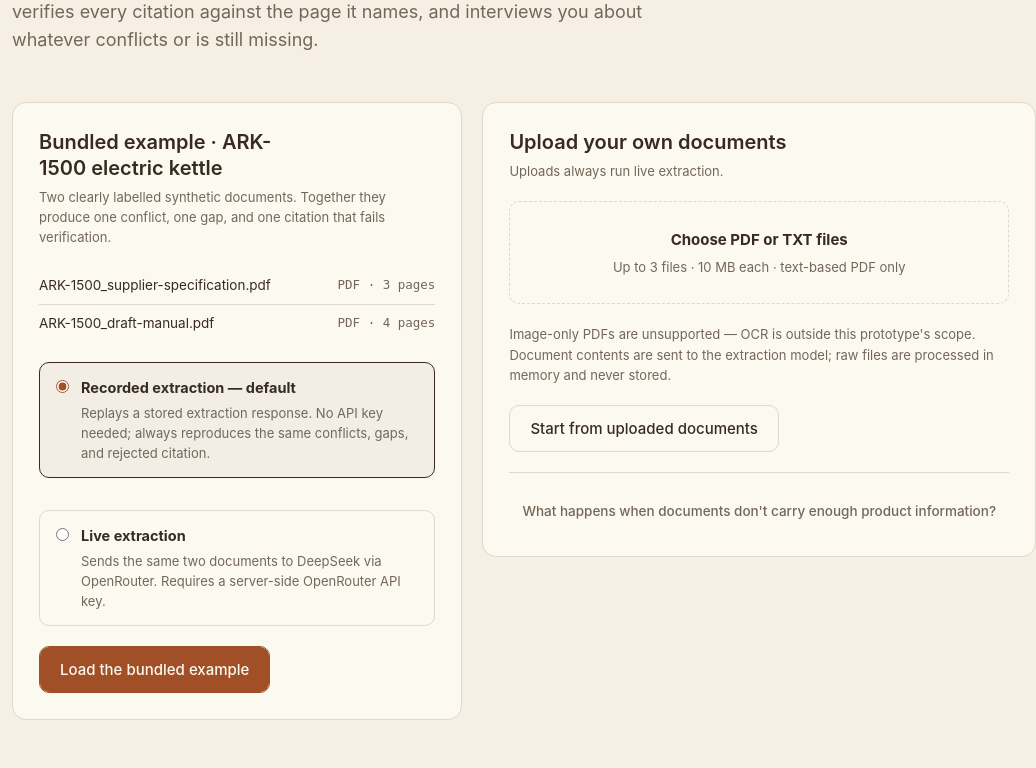
Intake › hides the coverage-gate note when the help link is clicked again
(page scrolled)
Click the button "don't carry enough product information". click: (759, 512)
box: [509, 493, 1009, 530]
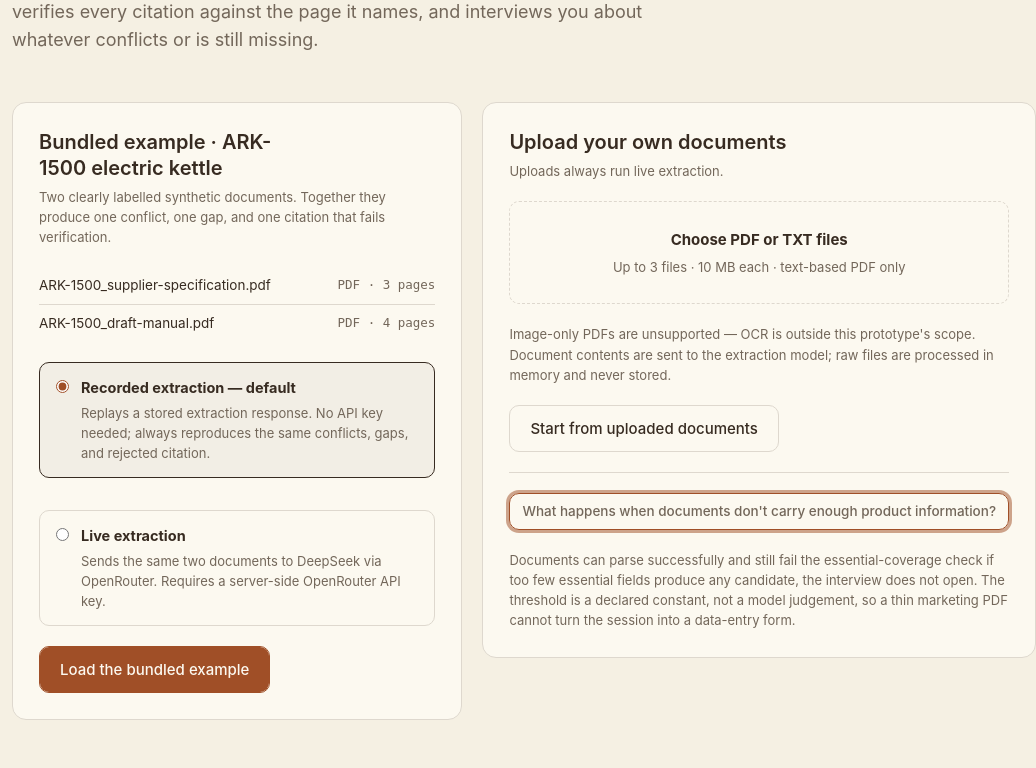
Click the button "don't carry enough product information". click: (759, 512)
box: [509, 493, 1009, 530]
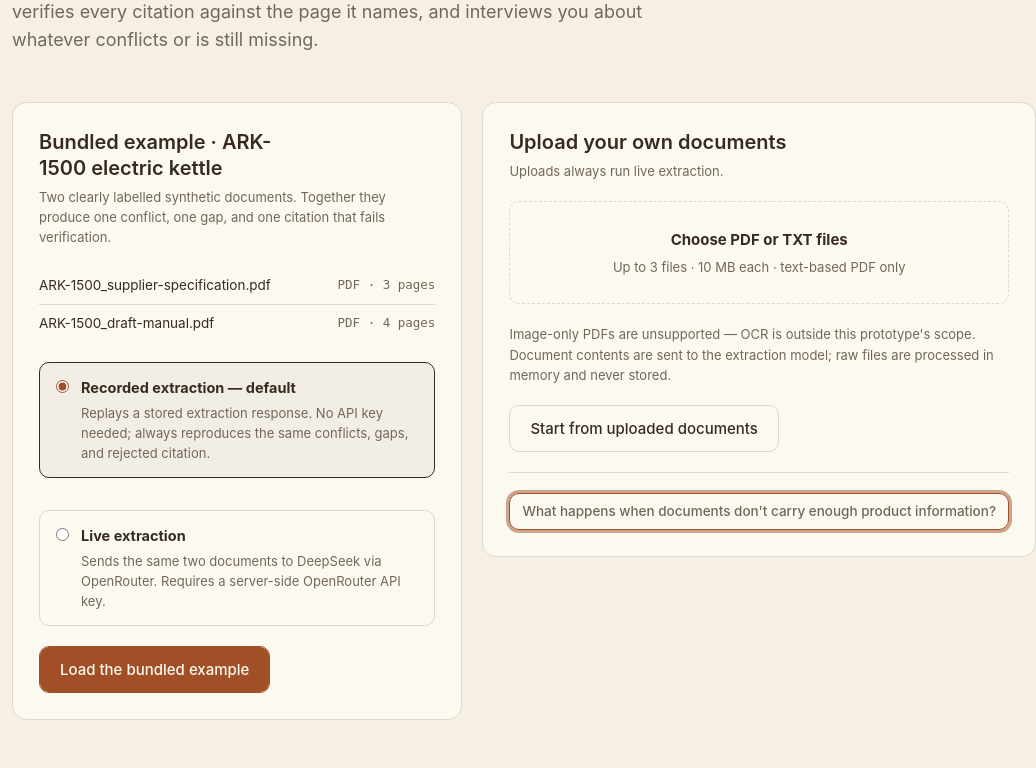
Expected: the text "declared constant, not a model judgement" is gone
